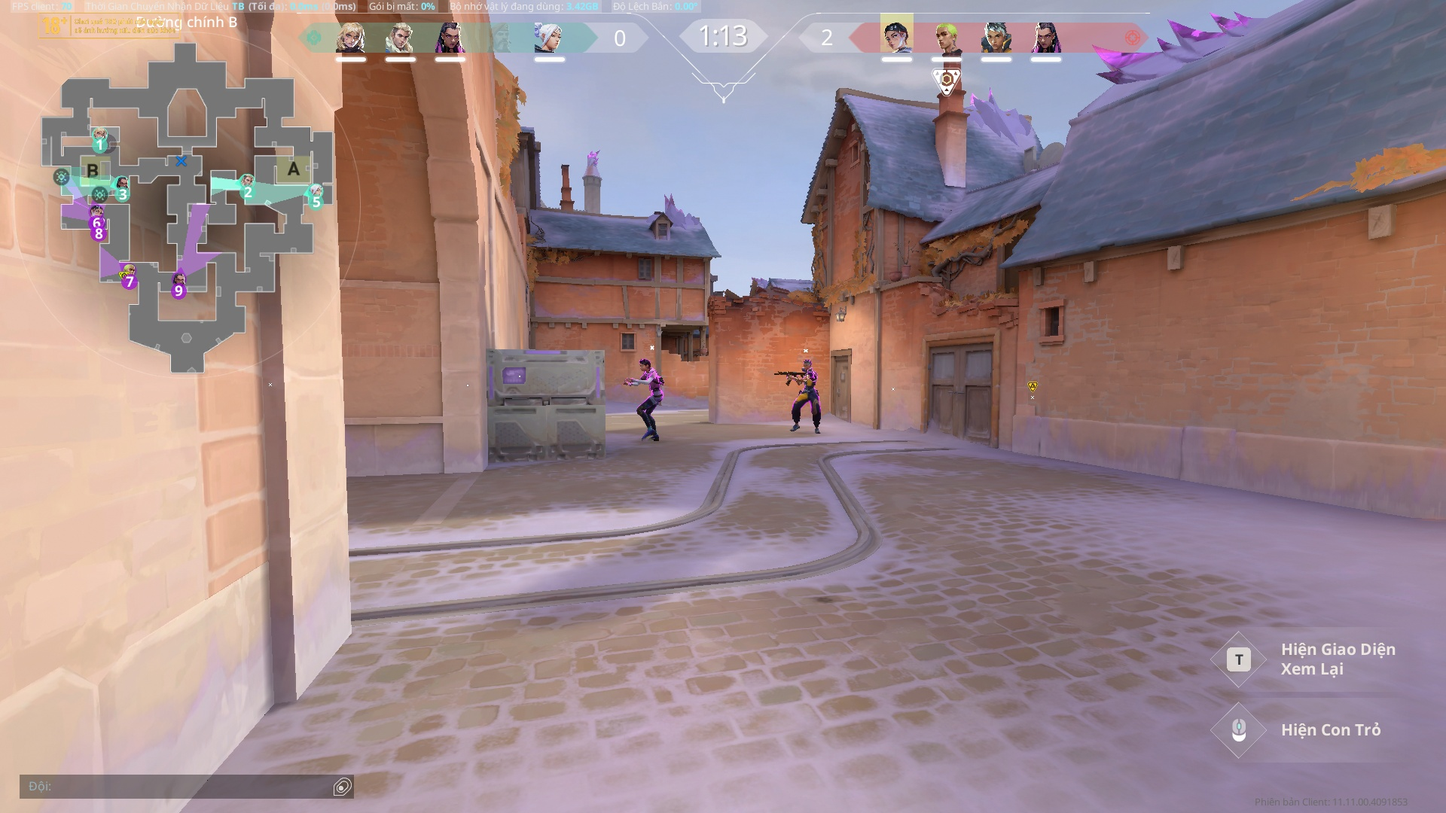body: (639, 370, 669, 393), (797, 367, 819, 387)
head: (638, 358, 652, 370), (802, 358, 813, 371)
